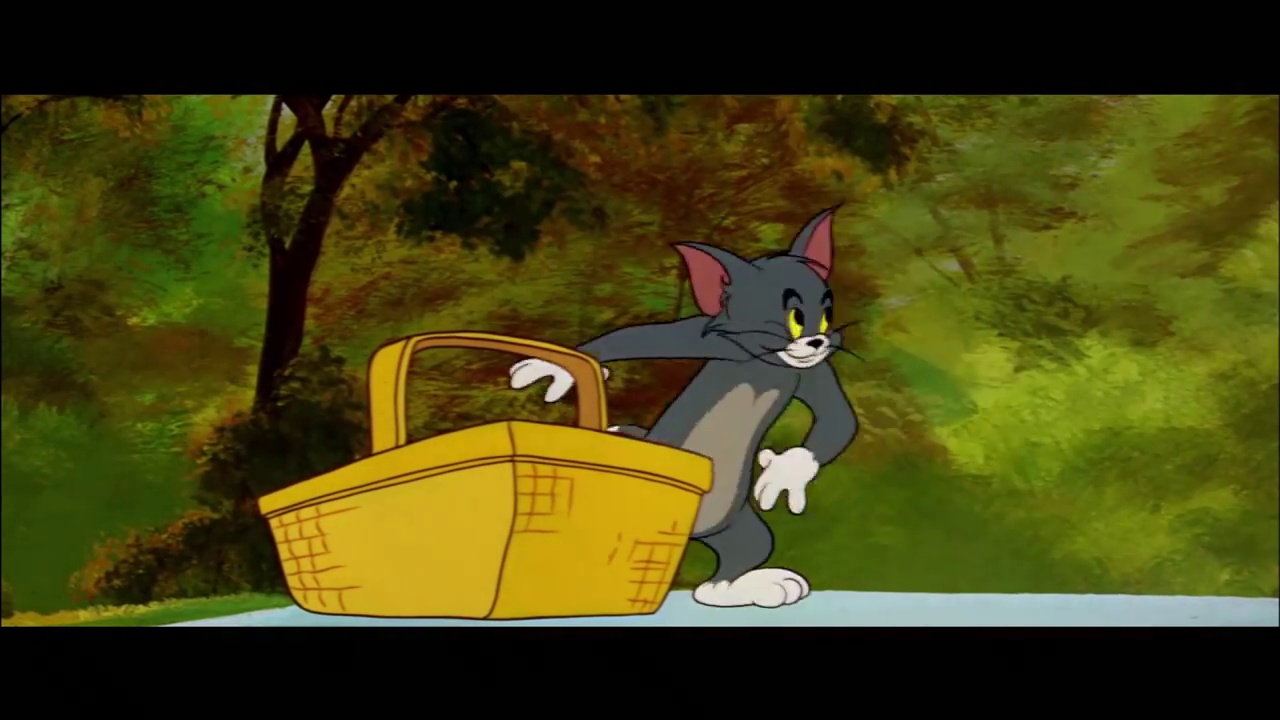tom: (670, 198, 862, 380)
